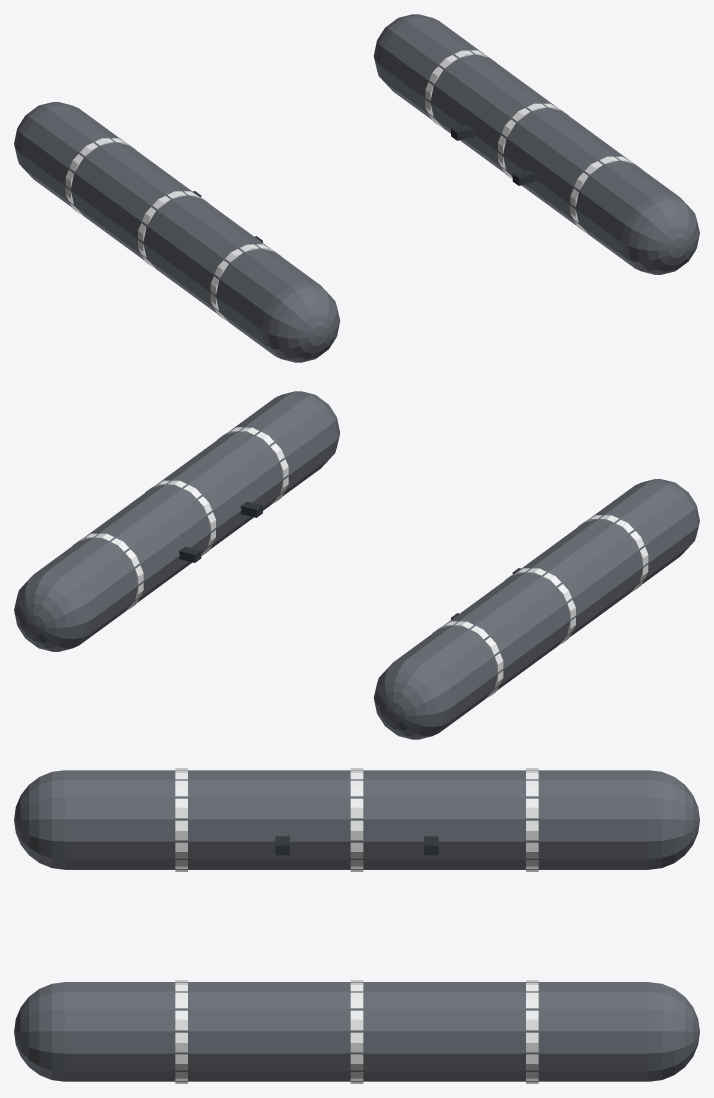
The model's file is boat_floats_grey.glb.
3 renders of one model, top to bottom at view 1: azimuth 30°, elevation 25°; view 2: azimuth 150°, elevation 25°; view 3: azimuth 270°, elevation 25°, orthographic. The views are drawn at different scales.
Visible parts, largest first — view 1: model; view 2: model; view 3: model.
Part boxes in pixels (x1,y1,x2,y2): model: [14, 14, 699, 362]; model: [14, 391, 699, 739]; model: [14, 768, 699, 1083].
Bounding box in the file's own units: 2.84 × 0.4894 × 3.23.
Materials: 1 (1 with a texture image).
